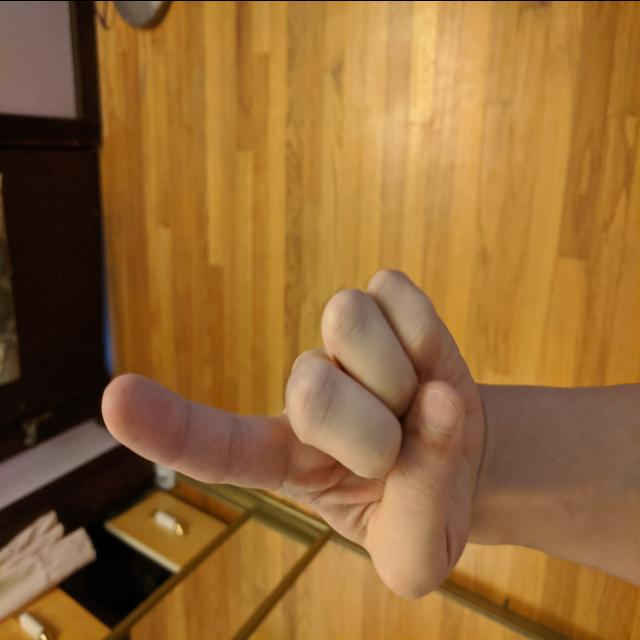D: (98, 262, 496, 604)
